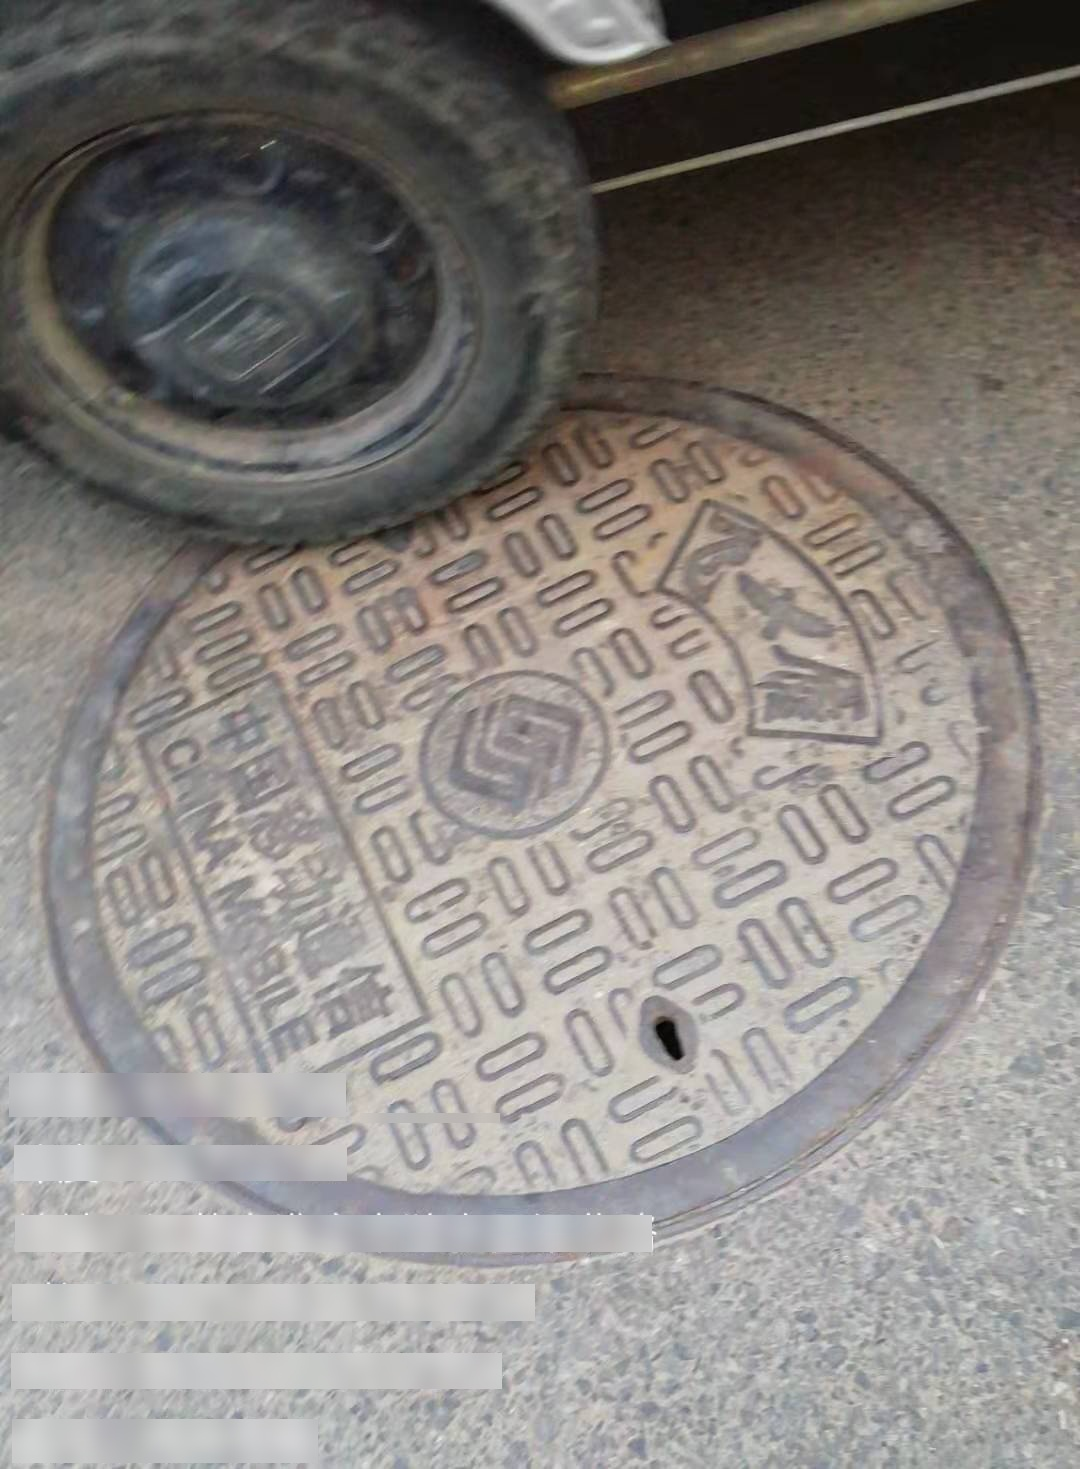well: (34, 372, 1044, 1253), (0, 79, 568, 526)
